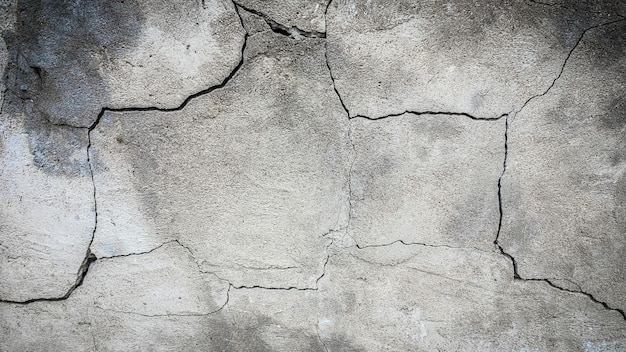crack: (0, 0, 247, 304), (322, 0, 622, 122), (491, 116, 624, 316), (90, 237, 347, 298), (231, 0, 325, 43), (95, 285, 229, 315), (350, 225, 492, 253)
